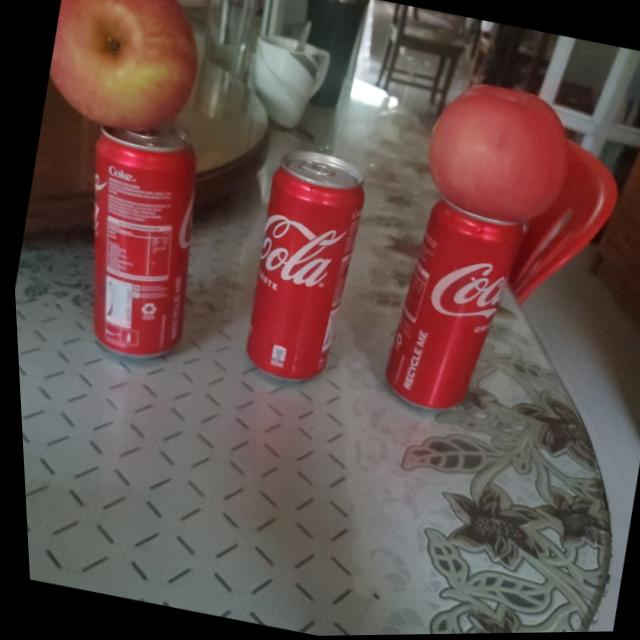apple: (411, 75, 581, 235), (38, 0, 213, 139)
coke: (51, 125, 221, 368), (368, 194, 531, 423), (229, 149, 377, 391)
